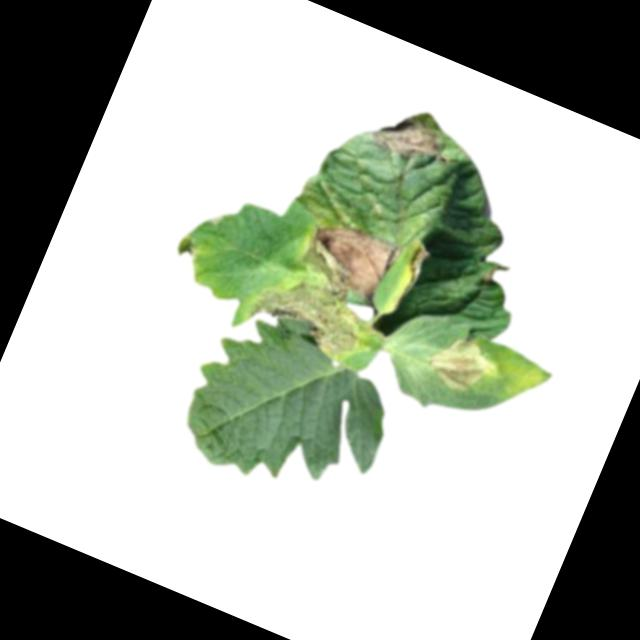Late_blight: (245, 265, 372, 365), (288, 209, 402, 312), (420, 327, 504, 404), (365, 103, 449, 170), (388, 244, 432, 310), (173, 229, 209, 268), (477, 260, 499, 285)
healthy: (165, 291, 414, 523)
